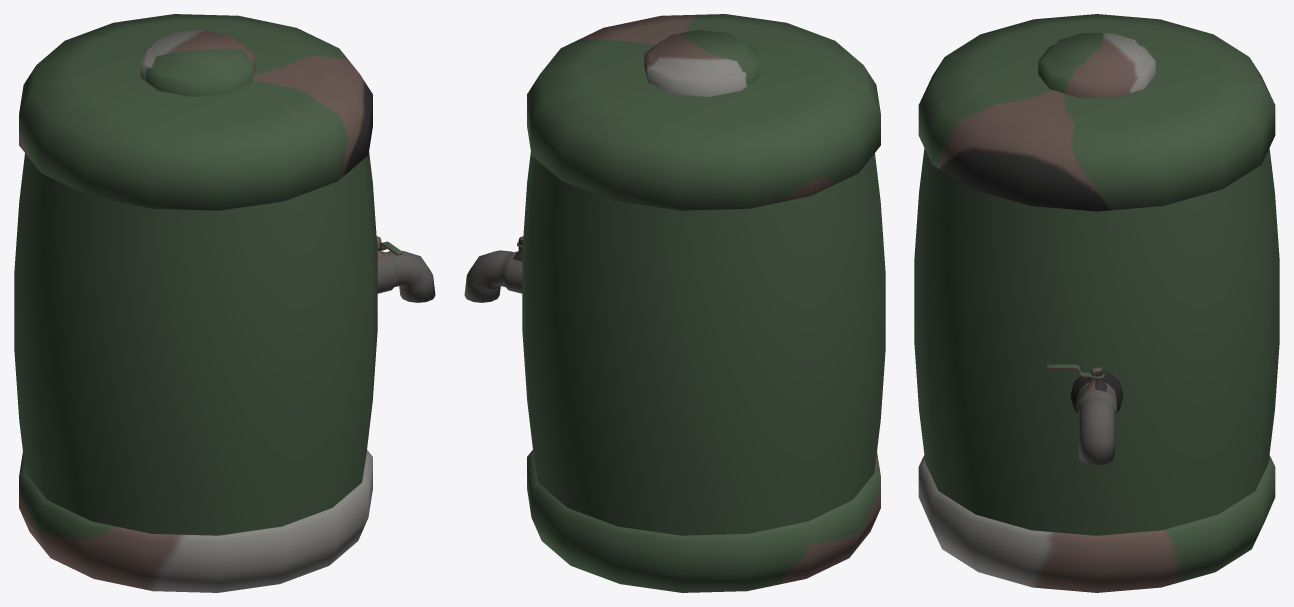
File: SM_SmallWaterTank.fbx
3 renders of one model, left to right at view 1: azimuth 30°, elevation 25°; view 2: azimuth 150°, elevation 25°; view 3: azimuth 270°, elevation 25°, orthographic.
Parts seen in each view (by area): view 1: SmallWaterTank; view 2: SmallWaterTank; view 3: SmallWaterTank.
Boxes of the visible parts, x1,y1,x2,y2 form: SmallWaterTank: (14, 14, 435, 592); SmallWaterTank: (464, 14, 885, 592); SmallWaterTank: (914, 14, 1279, 592).
Bounding box in the file's own units: 158 × 180 × 126.
